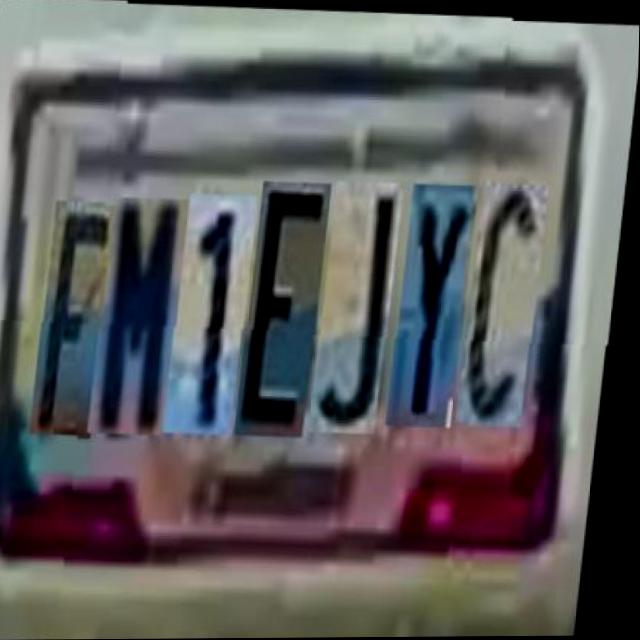1: (174, 192, 263, 433)
c: (467, 177, 552, 420)
e: (245, 179, 336, 435)
f: (42, 203, 122, 438)
j: (319, 177, 408, 431)
m: (99, 195, 196, 434)
y: (398, 180, 483, 424)
